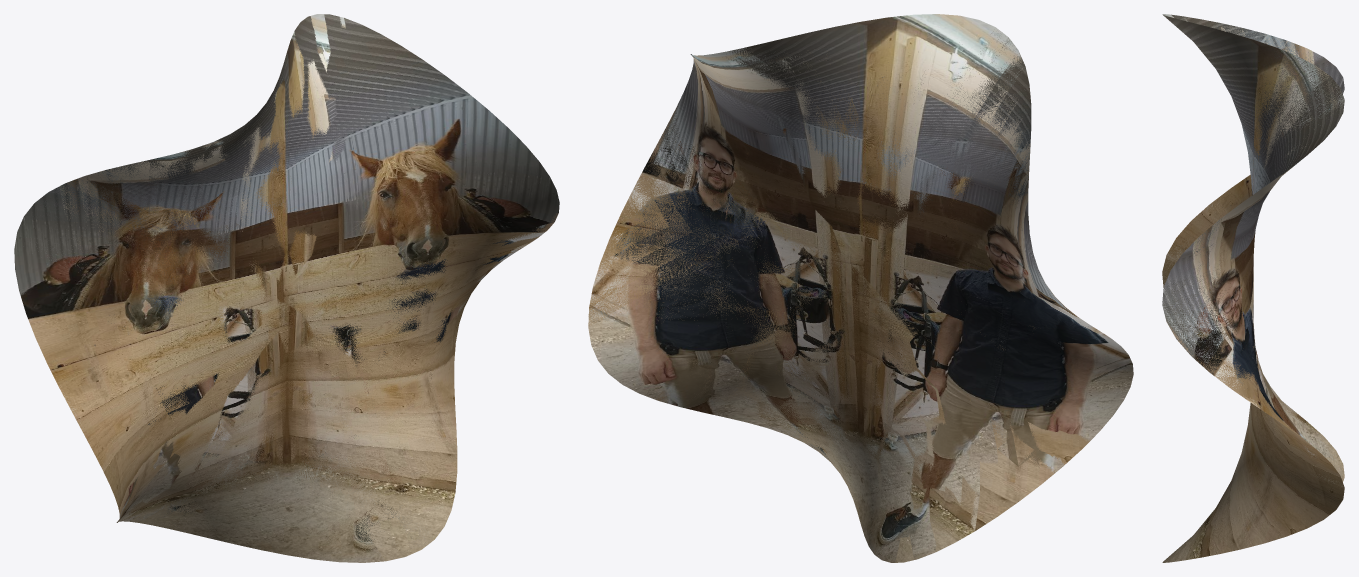
The model's file is MartensSurface.glb.
3 renders of one model, left to right at view 1: azimuth 30°, elevation 25°; view 2: azimuth 150°, elevation 25°; view 3: azimuth 270°, elevation 25°, orthographic.
Parts seen in each view (by area): view 1: sine, sine.002; view 2: sine, sine.002; view 3: sine, sine.002.
Part boxes in pixels (x1,y1,x2,y2): sine: (36, 14, 559, 562); sine.002: (14, 14, 558, 562); sine: (588, 14, 1133, 562); sine.002: (588, 31, 1091, 562); sine: (1162, 14, 1344, 562); sine.002: (1162, 14, 1344, 489).
Size of the model in its own units: 6 by 6 by 2.
1 material, 1 textured.
